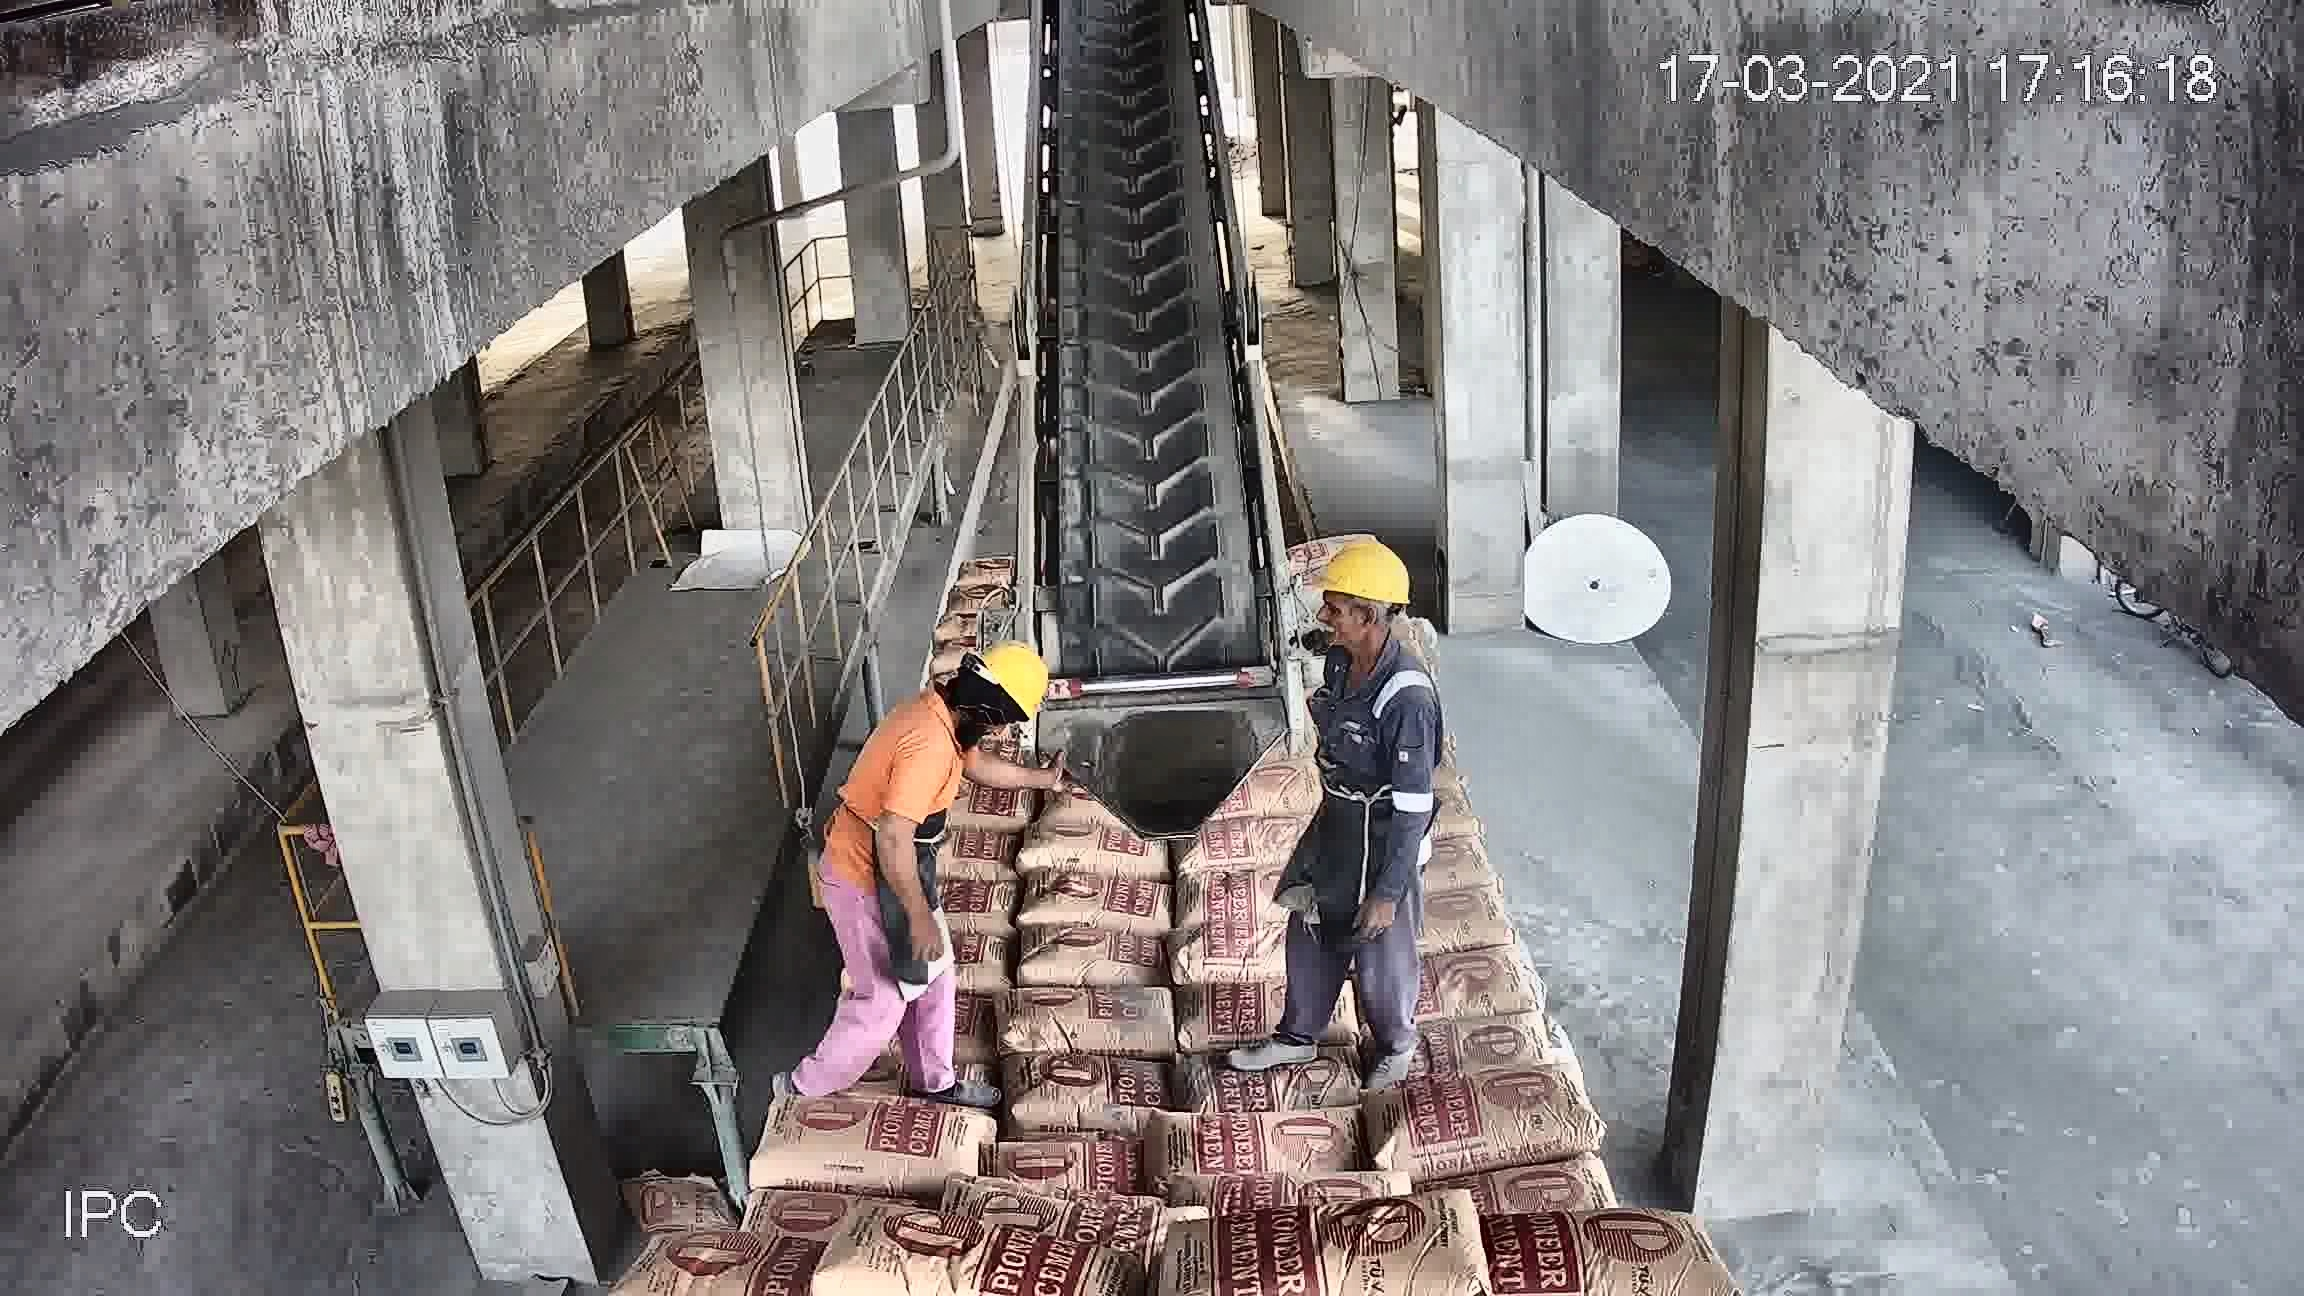bag_h: (794, 1215, 1135, 1294), (1362, 1065, 1593, 1180), (753, 1097, 999, 1195), (1154, 1106, 1369, 1196), (638, 1228, 847, 1294), (1011, 978, 1177, 1060), (1196, 1040, 1364, 1114), (1006, 1062, 1173, 1136), (1155, 908, 1302, 991), (994, 1133, 1166, 1201), (1416, 945, 1540, 1035), (1415, 1003, 1570, 1074), (1022, 870, 1176, 935), (1030, 926, 1179, 991), (1161, 869, 1291, 938), (1013, 817, 1152, 873), (1260, 524, 1370, 565)
belt: (1006, 33, 1285, 788)
